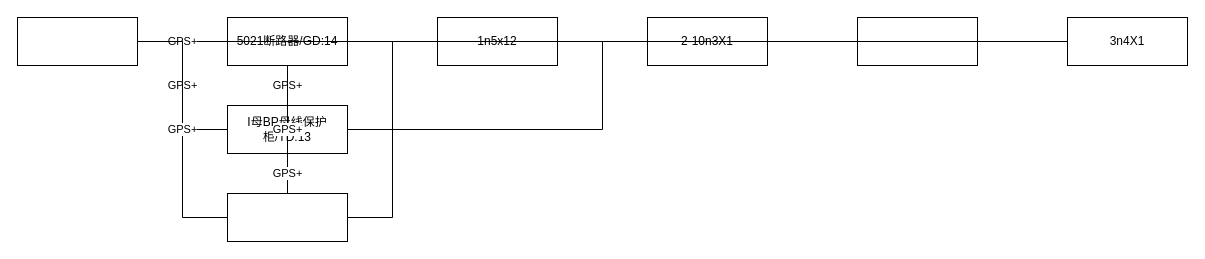
The diagram is 1205 pixels wide and 259 high, and some of its shapes have lost their labels. Each missing label, with the box of its shape:
2n108: (856, 16, 978, 66)
5011断路器/GD:14: (16, 16, 138, 66)
I母GSGB母线保护柜/ZD:30: (226, 192, 348, 242)
